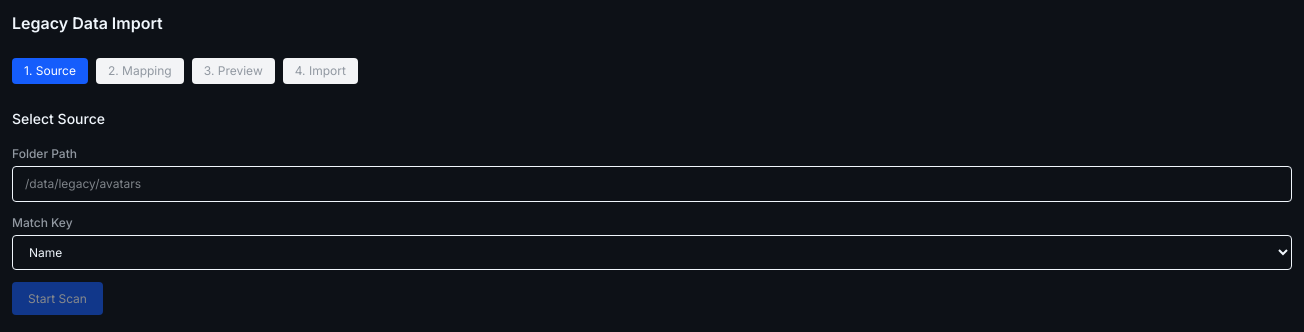
Test: LegacyImportWizard › navigates to preview step when step button clicked
Click the button with test id "step-preview".
click(233, 71)  # box [192,58,275,84]
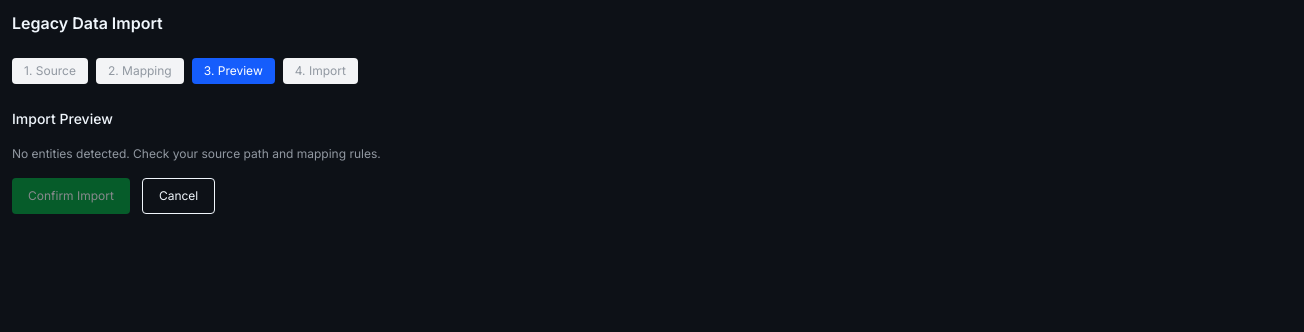
Expected: the element with test id "import-preview" is shown, [12,110,381,214]
